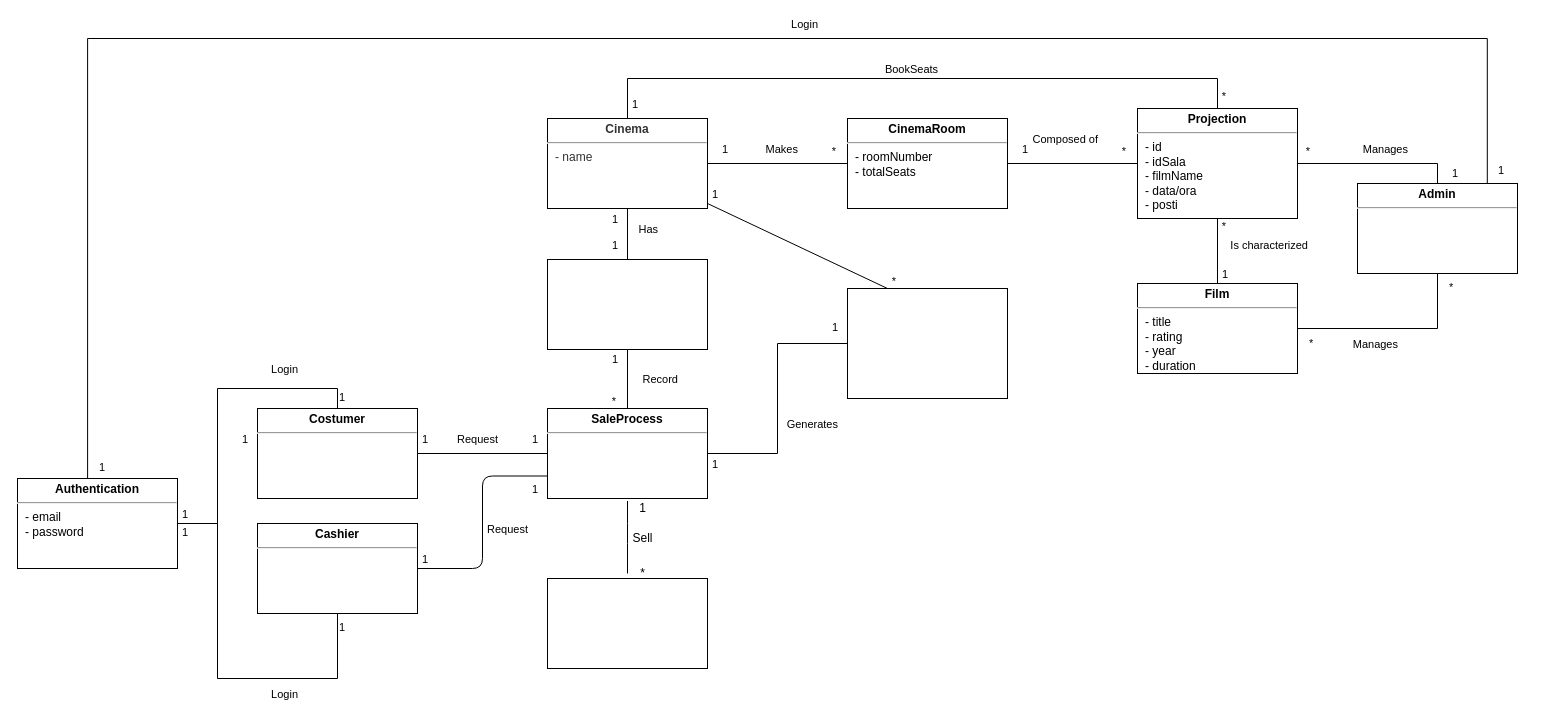
This 1554x725 diagram has some shape labels left out. Here are the shapes that lost their labels. From the top down, the centre of each, then its label:
At point (627, 304): "Register".
At point (927, 343): "Ticket - nomeFilm - data - ora - numeroPosti - prezzo".
At point (627, 623): "Food - description - quantity - price".
